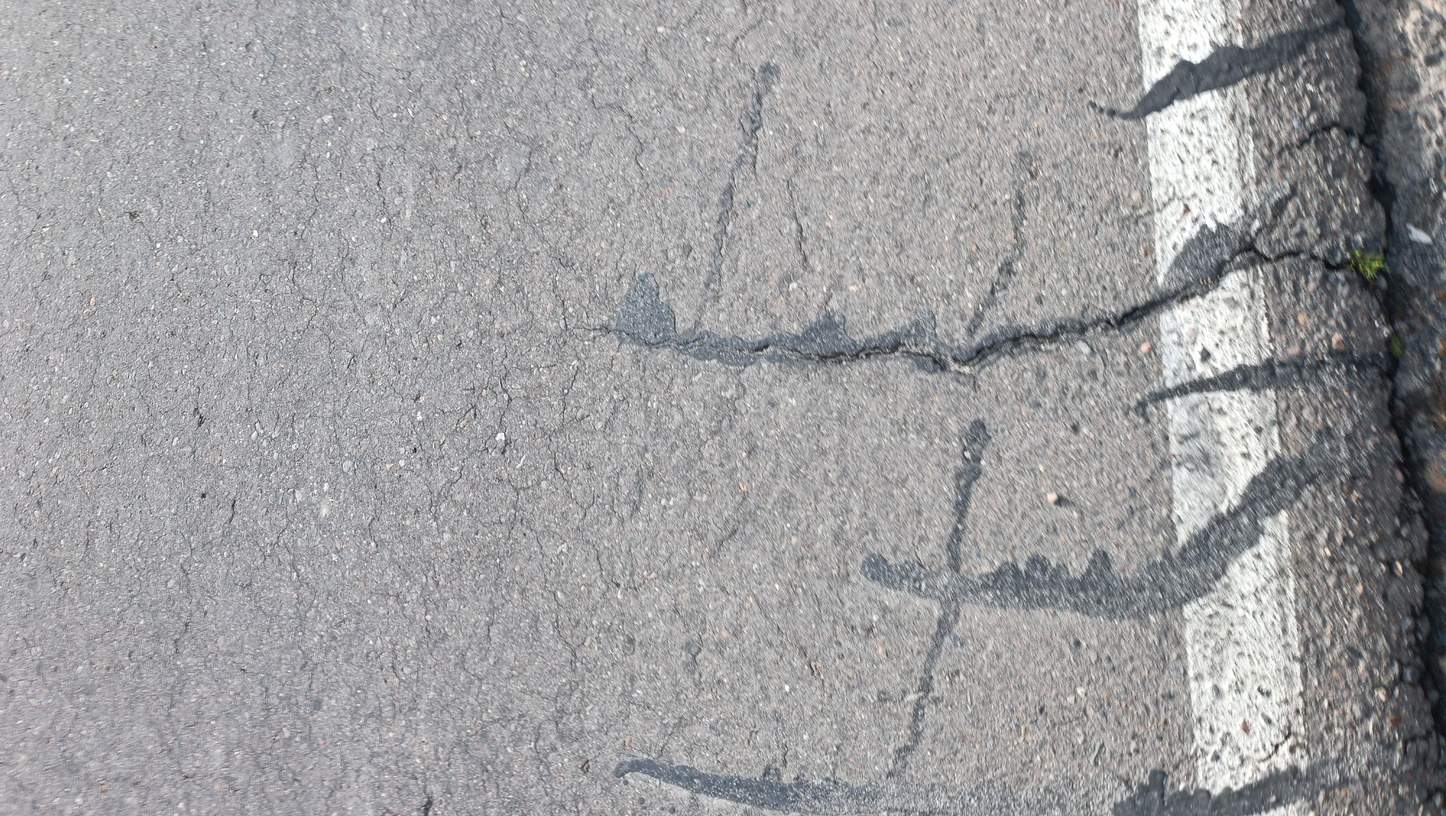GRIETA: (664, 239, 1379, 376)
PIEL DE COCODRILO: (0, 304, 756, 766), (194, 0, 779, 340)
